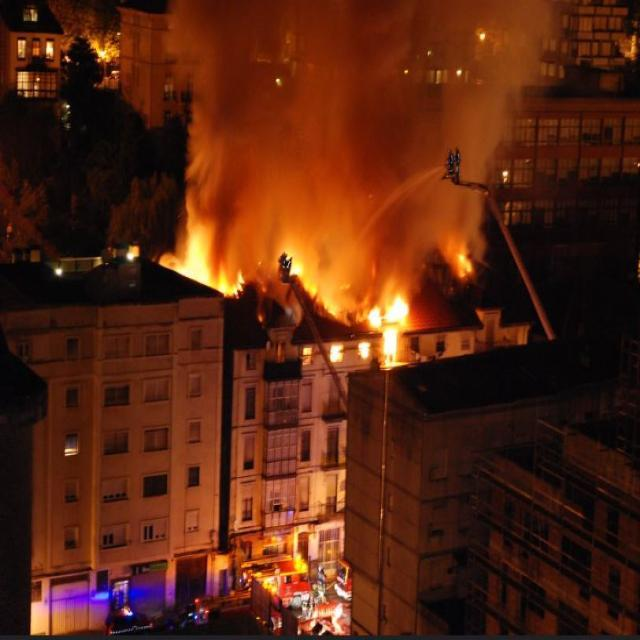Fire: (172, 245, 248, 302), (358, 291, 403, 358), (284, 252, 306, 280), (452, 250, 471, 277), (326, 342, 344, 363)
